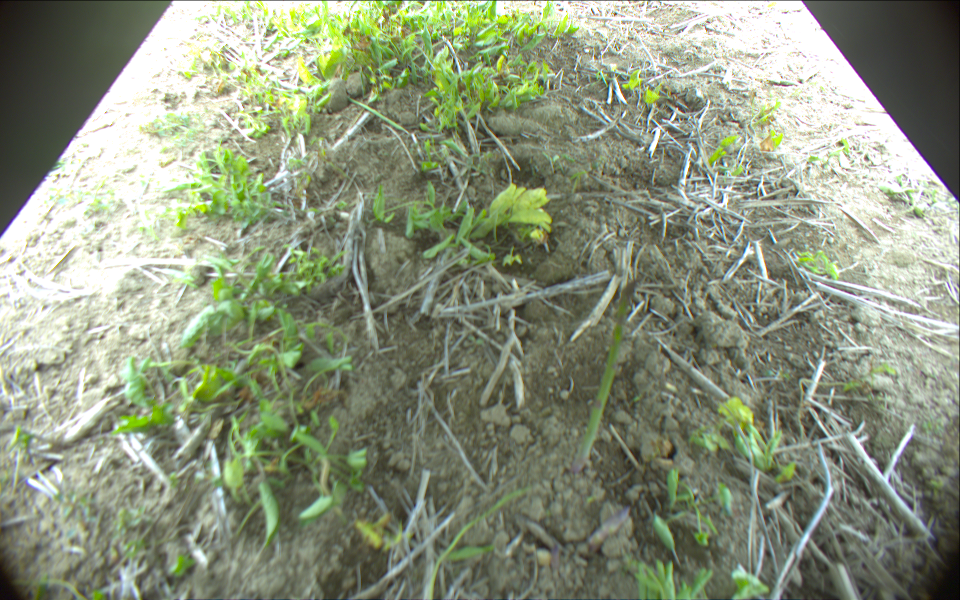aspa: (571, 278, 636, 471)
